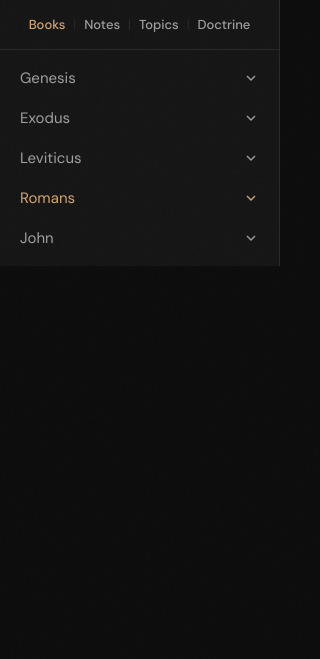
Test case: Sidebar › Books tab › collapses previous book when expanding another
This screenshot has width=320, height=659.
Note: Expand Genesis
Click the button "Genesis" at (48, 78), box x1=8 y1=58 x2=271 y2=98
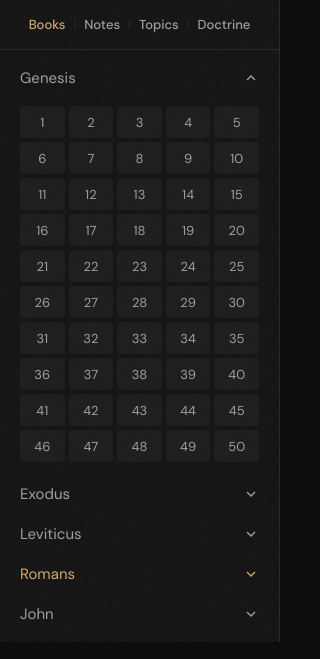
expect the button "50" is shown: met, box x1=214 y1=430 x2=259 y2=462
Note: Expand Exodus (should collapse Genesis)
Click the button "Exodus" at (45, 494), box x1=8 y1=474 x2=271 y2=514
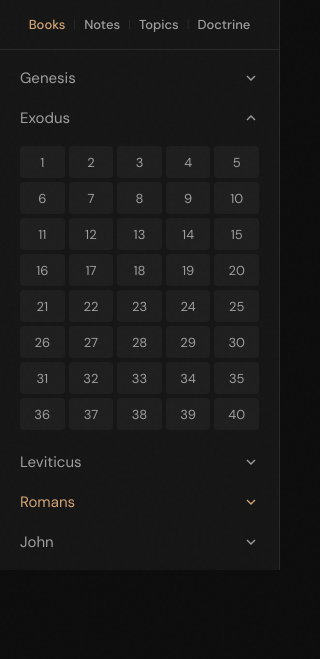
expect the button "40" is shown: met, box x1=214 y1=398 x2=259 y2=430
expect the button "50" is gone: met
